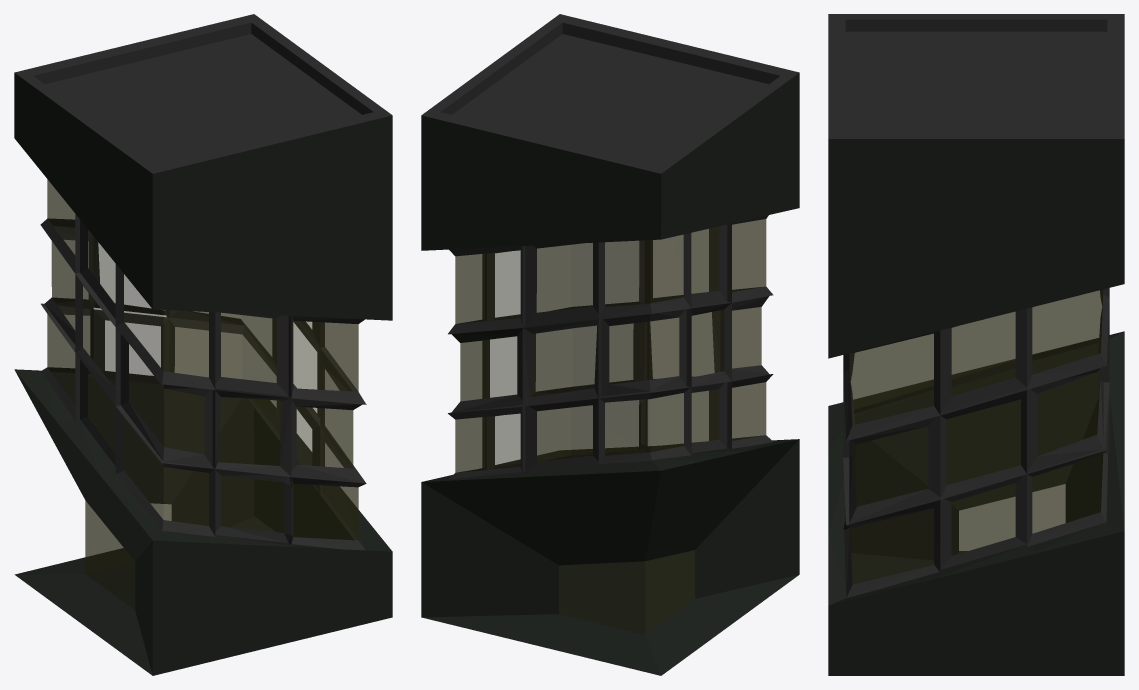
File: China_Tower.dae
3 renders of one model, left to right at view 1: azimuth 30°, elevation 25°; view 2: azimuth 150°, elevation 25°; view 3: azimuth 270°, elevation 25°, orthographic. The views are drawn at different scales.
Parts seen in each view (by area): view 1: Square_towerFBXASC058pCube1; view 2: Square_towerFBXASC058pCube1; view 3: Square_towerFBXASC058pCube1.
Part boxes in pixels (x1,y1,x2,y2): Square_towerFBXASC058pCube1: (14, 14, 392, 675); Square_towerFBXASC058pCube1: (421, 14, 799, 675); Square_towerFBXASC058pCube1: (828, 14, 1124, 675).
Bounding box in the file's own units: 5 × 10 × 5.
